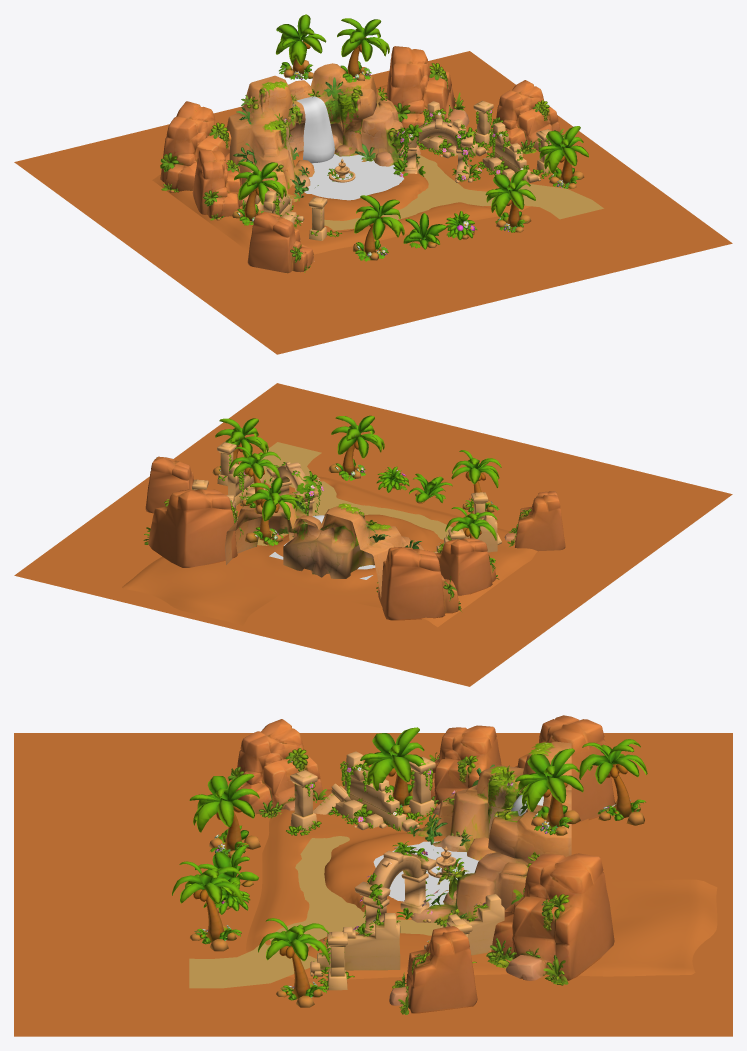
File: Forgotten_Oasis.fbx
The picture shows the model from 3 angles, top to bottom: view 1: azimuth 30°, elevation 25°; view 2: azimuth 150°, elevation 25°; view 3: azimuth 270°, elevation 25°; orthographic projection. The views are drawn at different scales.
Visible parts, largest first — view 1: Plane.003, Mountain, Plane.002, Plane.004, RockPile.002, RockPile.003, RockPile.004, RockPile, Water_plane, RockPile.001, StoneArch, BrokenWalls.001 (+12 smaller); view 2: Plane.003, Plane.002, Mountain, RockPile.002, RockPile.003, Plane.004, RockPile.001, RockPile.004, Big Tree.004, RockPile, Big Tree.003, StoneArch (+8 smaller); view 3: Plane.003, Plane.002, Mountain, RockPile.002, Plane.004, RockPile, RockPile.004, BrokenWalls, BrokenWalls.001, StoneArch, RockPile.001, RockPile.003 (+12 smaller).
Boxes of the visible parts, x1,y1,x2,y2 form: Plane.003: (14, 51, 732, 354); Mountain: (227, 63, 420, 202); Plane.002: (152, 84, 534, 254); Plane.004: (324, 155, 603, 230); RockPile.002: (386, 46, 469, 142); RockPile.003: (160, 101, 231, 192); RockPile.004: (247, 211, 314, 273); RockPile: (488, 80, 564, 154); Water_plane: (304, 154, 403, 200); RockPile.001: (192, 149, 248, 220); StoneArch: (393, 119, 481, 182); BrokenWalls.001: (477, 122, 558, 182); Plane.003: (14, 383, 732, 686); Plane.002: (122, 476, 537, 627); Mountain: (224, 492, 423, 598); RockPile.002: (143, 489, 243, 567); RockPile.003: (376, 547, 461, 620); Plane.004: (257, 442, 452, 545); RockPile.001: (435, 538, 499, 595); RockPile.004: (504, 491, 565, 551); Big Tree.004: (328, 415, 384, 480); RockPile: (145, 456, 193, 513); Big Tree.003: (245, 477, 297, 545); StoneArch: (266, 462, 323, 515); Plane.003: (14, 733, 732, 1036); Plane.002: (246, 788, 717, 979); Mountain: (407, 741, 571, 925); RockPile.002: (486, 853, 614, 985); Plane.004: (189, 836, 443, 988); RockPile: (389, 926, 477, 1014); RockPile.004: (228, 719, 326, 818); BrokenWalls: (328, 751, 435, 831); BrokenWalls.001: (310, 913, 400, 990); StoneArch: (353, 841, 436, 934); RockPile.001: (429, 725, 501, 815); RockPile.003: (514, 715, 614, 824).
Size of the model in its own units: 2562 by 2562 by 727.
8 materials, 6 textured.
